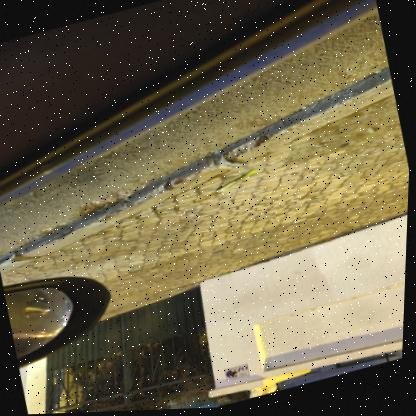Paper: (217, 169, 261, 193)
Waste: (349, 75, 361, 80), (43, 227, 53, 231), (84, 209, 92, 212), (59, 223, 67, 226)
